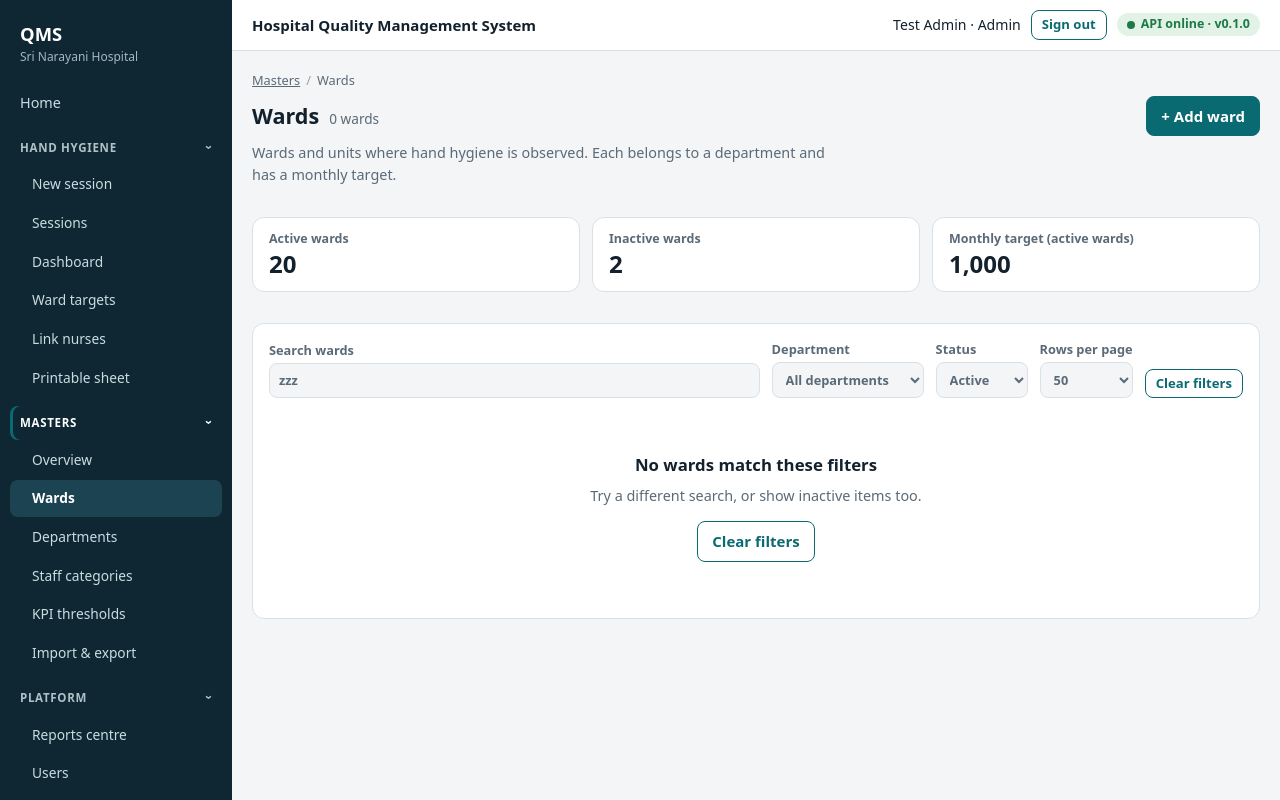
it: Wards page › shows the no-match empty state and clears filters
This screenshot has width=1280, height=800.
Expected: the heading "No wards match these filters" is shown, [635, 452, 877, 478]
Click the button "Clear filters" below "Status". click: (1194, 383)
box: [1145, 369, 1243, 398]
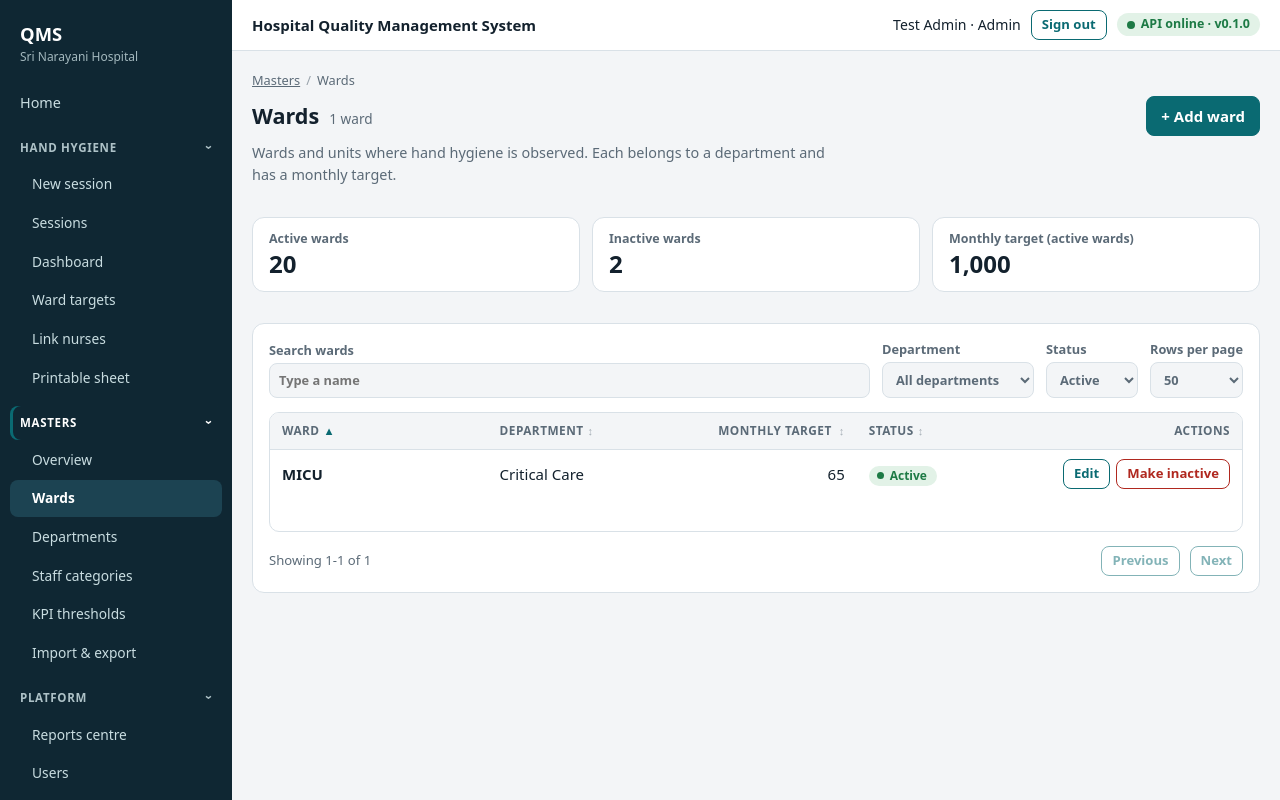
Result: the text "MICU" is shown at [282, 464, 323, 484]
Result: the search field labelled "Search wards" is empty at [269, 363, 870, 398]
